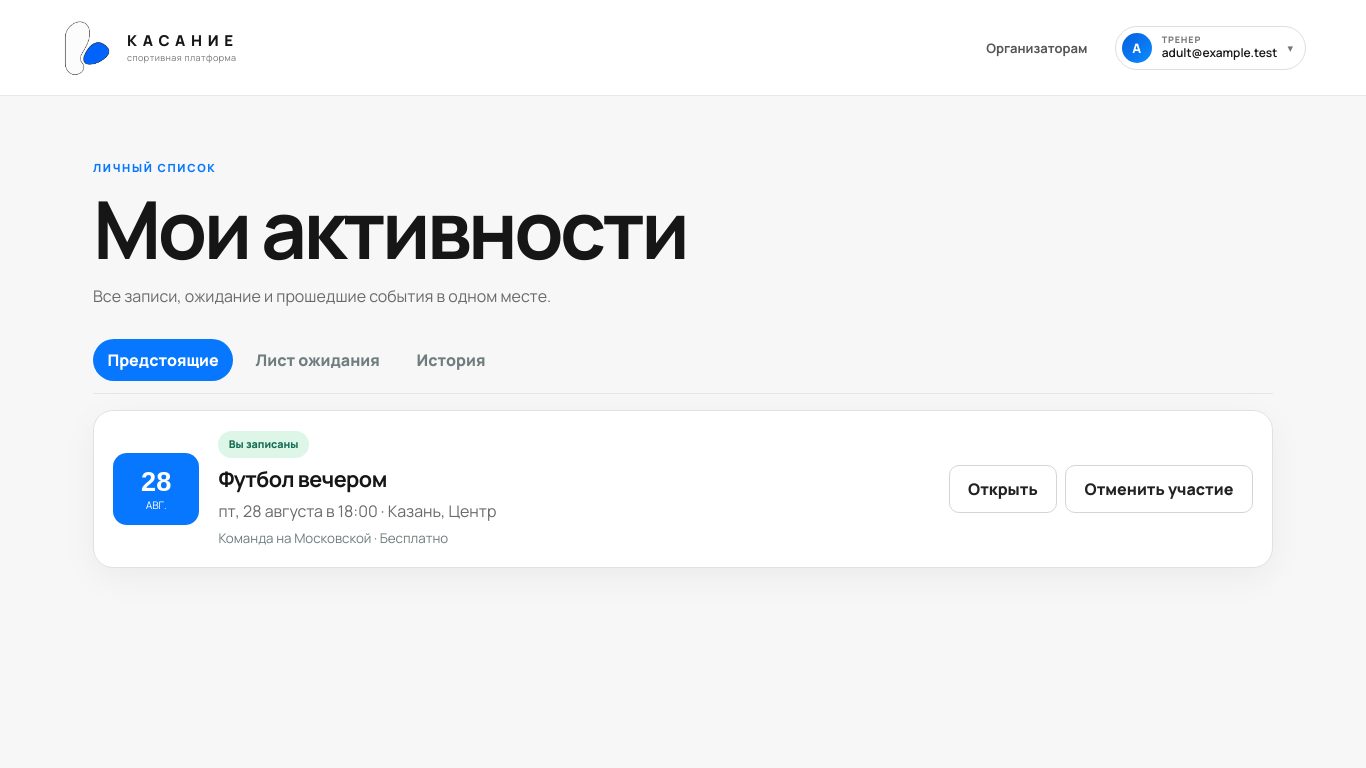
Scenario: critical workflows › shows the authenticated user activities and cancellation confirmation
The width and height of the screenshot is (1366, 768).
Expected: the heading "Футбол вечером" is shown, left=218, top=464, right=387, bottom=493
Expected: the text "Вы записаны" is shown, left=218, top=430, right=309, bottom=458
Click the button "Отменить участие".
click(1159, 489)  # box left=1065, top=465, right=1253, bottom=513
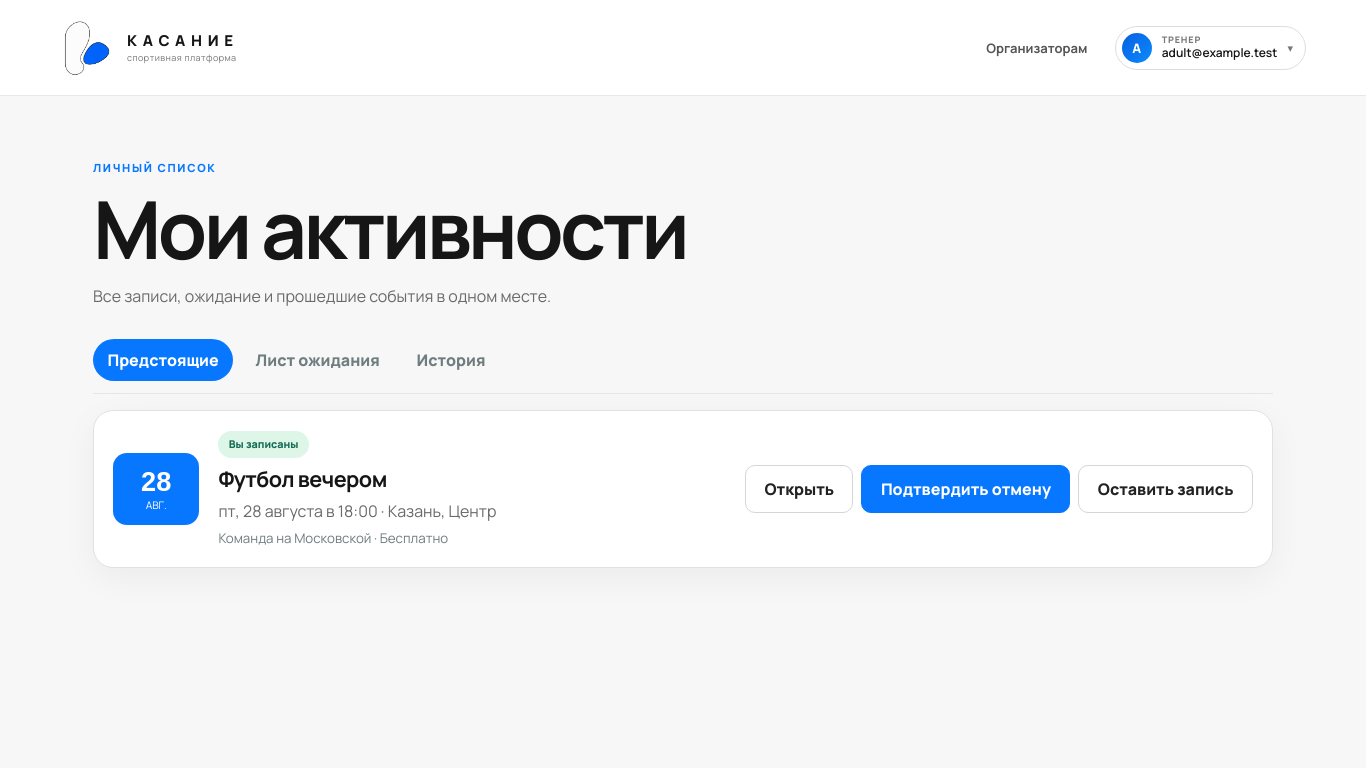
Expected: the button "Подтвердить отмену" is shown, left=862, top=465, right=1070, bottom=513
Expected: the button "Оставить запись" is shown, left=1078, top=465, right=1253, bottom=513
